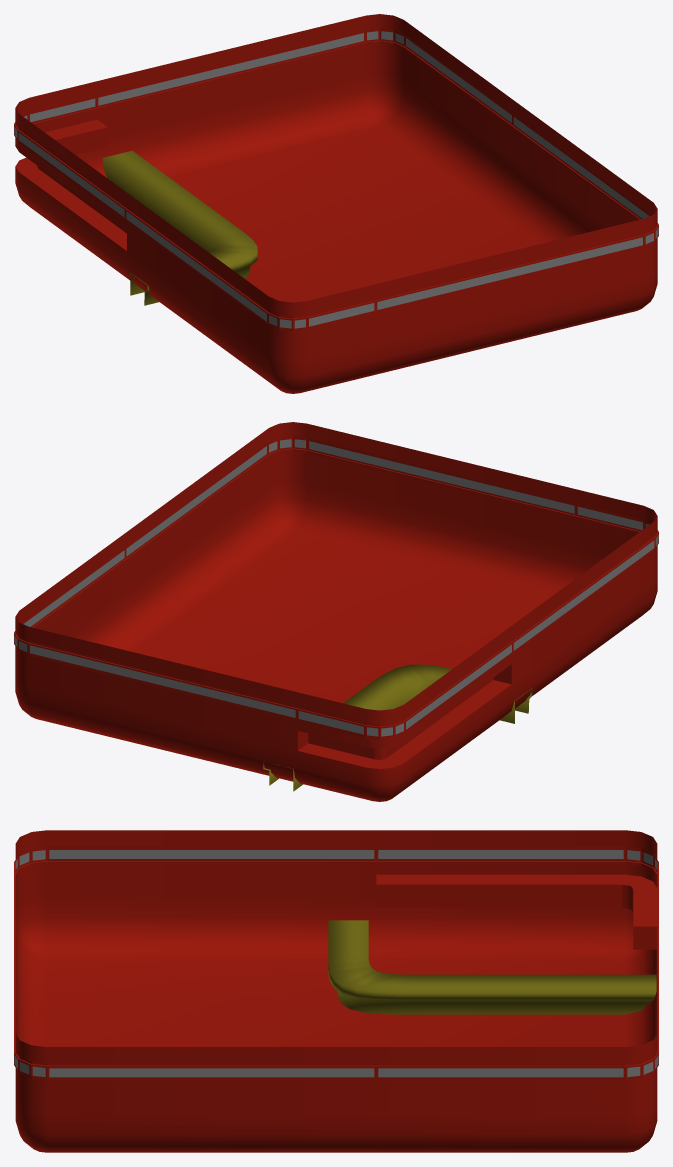
File: HUB room 2.fbx
3 renders of one model, top to bottom at view 1: azimuth 30°, elevation 25°; view 2: azimuth 150°, elevation 25°; view 3: azimuth 270°, elevation 25°, orthographic. The views are drawn at different scales.
Visible parts, largest first — view 1: HUB; view 2: HUB; view 3: HUB.
Part boxes in pixels (bbox=[...]): HUB: bbox=[14, 14, 658, 393]; HUB: bbox=[14, 422, 658, 801]; HUB: bbox=[14, 830, 658, 1152].
Bounding box in the file's own units: 634 × 791 × 157.
